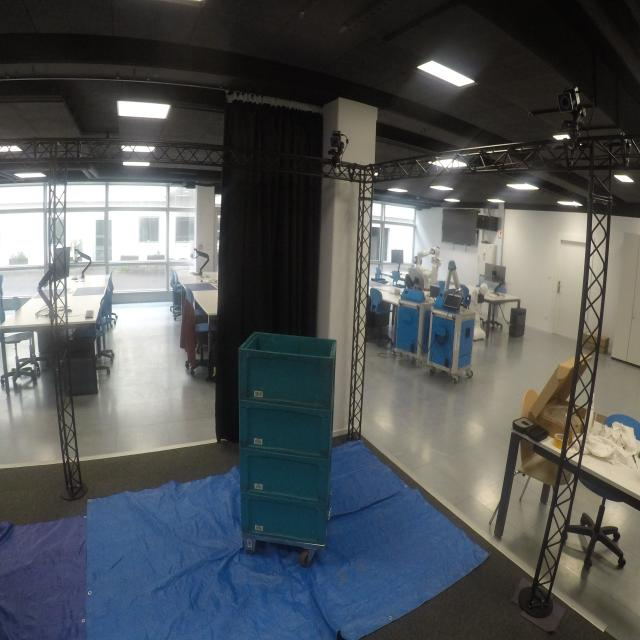BoxB4: (234, 327, 341, 411), (239, 400, 335, 458), (238, 491, 335, 545), (238, 448, 333, 502)
